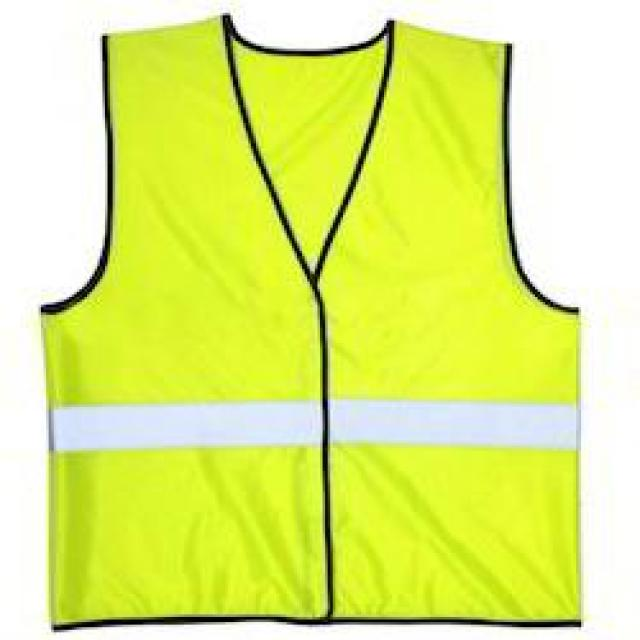Reflective-Jacket: (7, 2, 640, 640)
